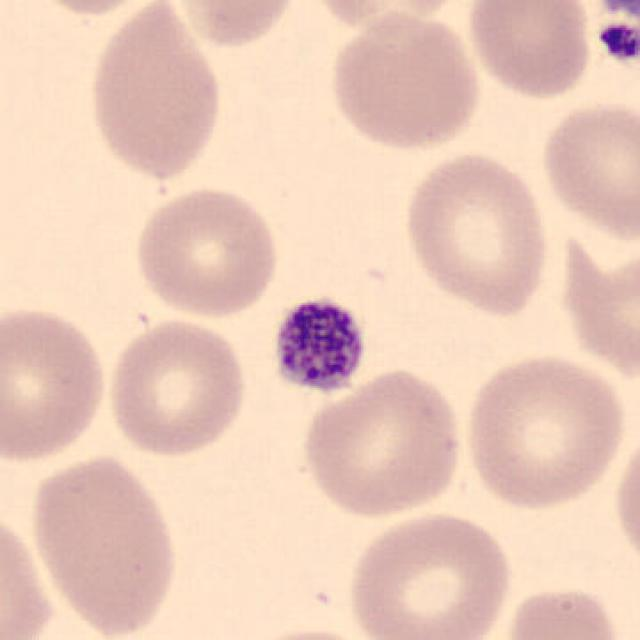Platelets: (266, 289, 370, 399), (594, 20, 638, 66), (599, 0, 638, 18)
RBC: (25, 449, 183, 636), (459, 349, 629, 513), (297, 363, 469, 522), (398, 146, 555, 319), (84, 0, 228, 185), (324, 7, 486, 153), (343, 508, 517, 640), (101, 314, 251, 460), (130, 181, 282, 321), (0, 300, 112, 467), (535, 95, 638, 245), (550, 228, 638, 392), (462, 0, 597, 102), (0, 504, 57, 640), (502, 582, 630, 640), (167, 0, 302, 49), (299, 0, 473, 33), (610, 423, 640, 578), (19, 0, 169, 18), (226, 624, 391, 640)
